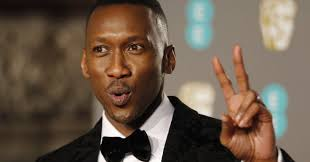black_male: (83, 23, 170, 129)
